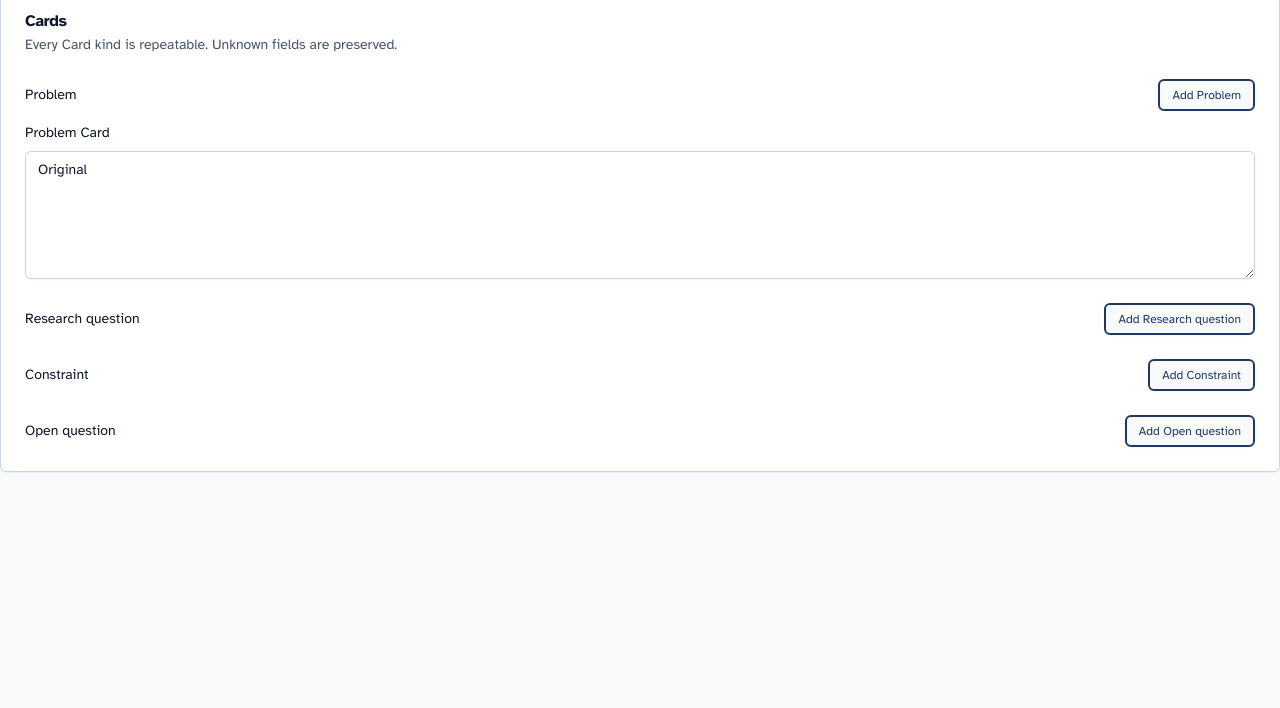
Test: WorkingDraftCardCanvas › preserves local and server Card text and retries only after explicit approval
Replace the text in the text box labelled "Problem Card" with "My problem" at [640, 215], box [25,151,1255,279]
(page scrolled)
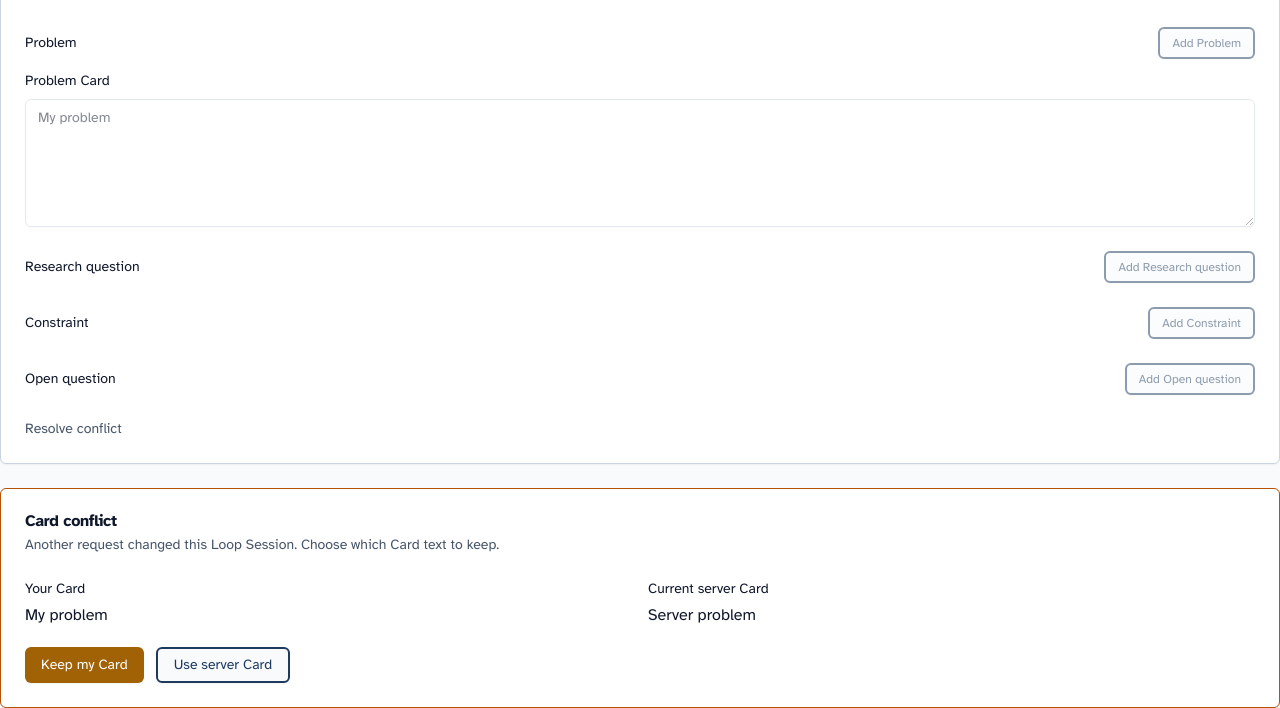
Result: the text "My problem" is shown at [25,605,108,625]
Result: the text "Server problem" is shown at [648,605,756,625]
Click the button "Keep my Card" at [84, 665], box [25,647,144,683]
(page scrolled)
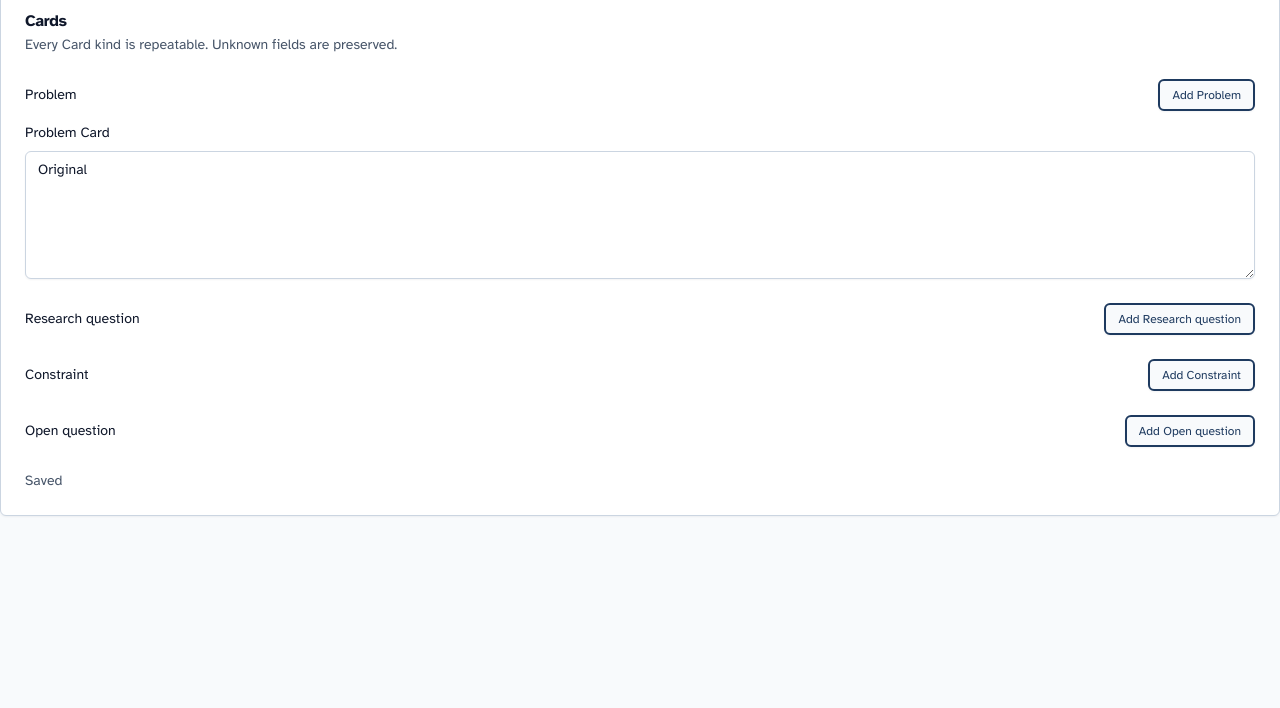
Result: the text "Saved" is shown at [25,472,62,489]
